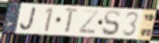1: (44, 7, 54, 34)
3: (121, 11, 140, 37)
J: (19, 6, 38, 31)
S: (101, 9, 121, 37)
T: (64, 7, 80, 35)
Z: (77, 9, 100, 36)
